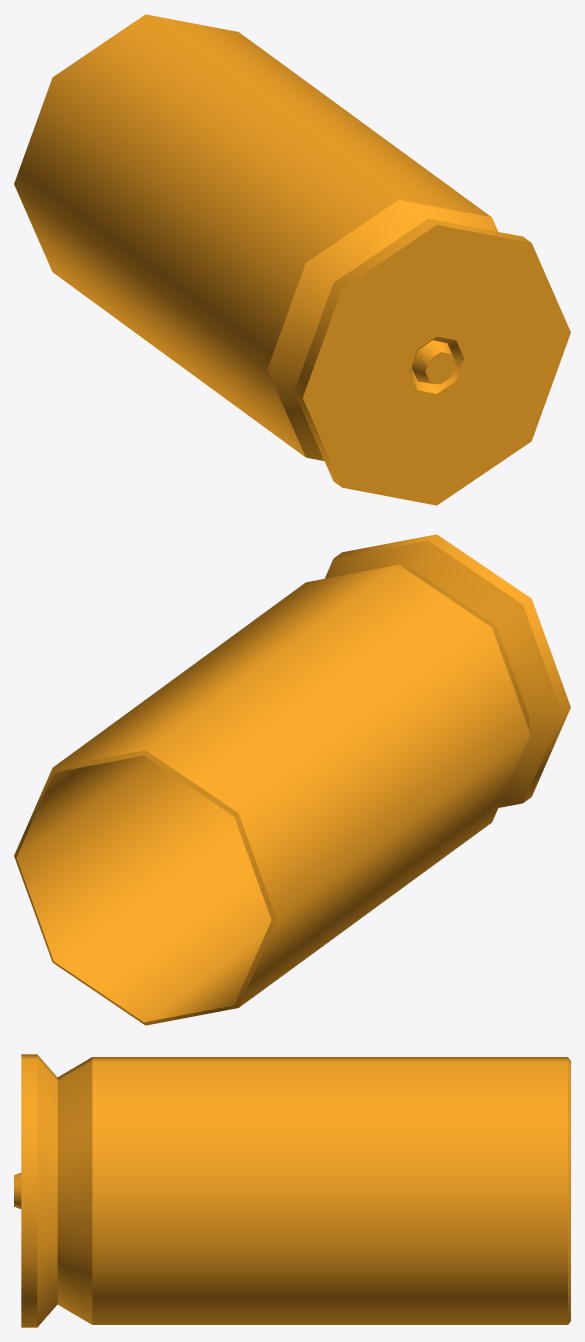
Rendered from BulletShell2_FBX.fbx.
3 views of the same model, one above another, from view 1: azimuth 30°, elevation 25°; view 2: azimuth 150°, elevation 25°; view 3: azimuth 270°, elevation 25° (orthographic). The views are drawn at different scales.
Parts seen in each view (by area): view 1: bulletShell; view 2: bulletShell; view 3: bulletShell.
Boxes of the visible parts, x1,y1,x2,y2 form: bulletShell: [14, 14, 570, 505]; bulletShell: [14, 534, 570, 1025]; bulletShell: [14, 1054, 570, 1327].
Bounding box in the file's own units: 0.6695 × 0.6695 × 1.28.
